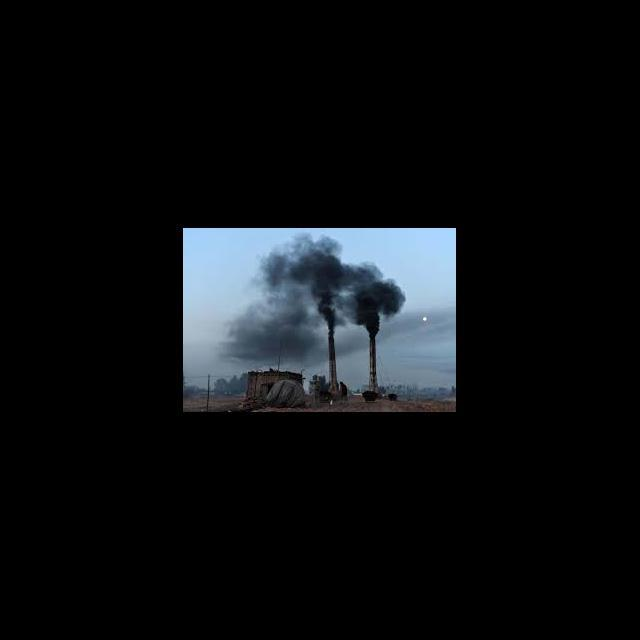Smoke: (269, 234, 406, 332), (230, 312, 324, 359)
